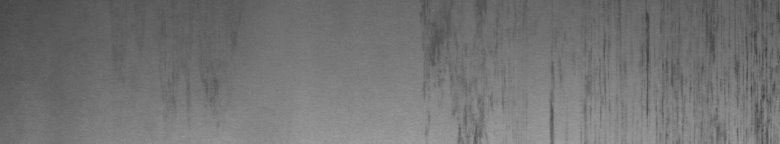ka: (548, 4, 775, 136)
